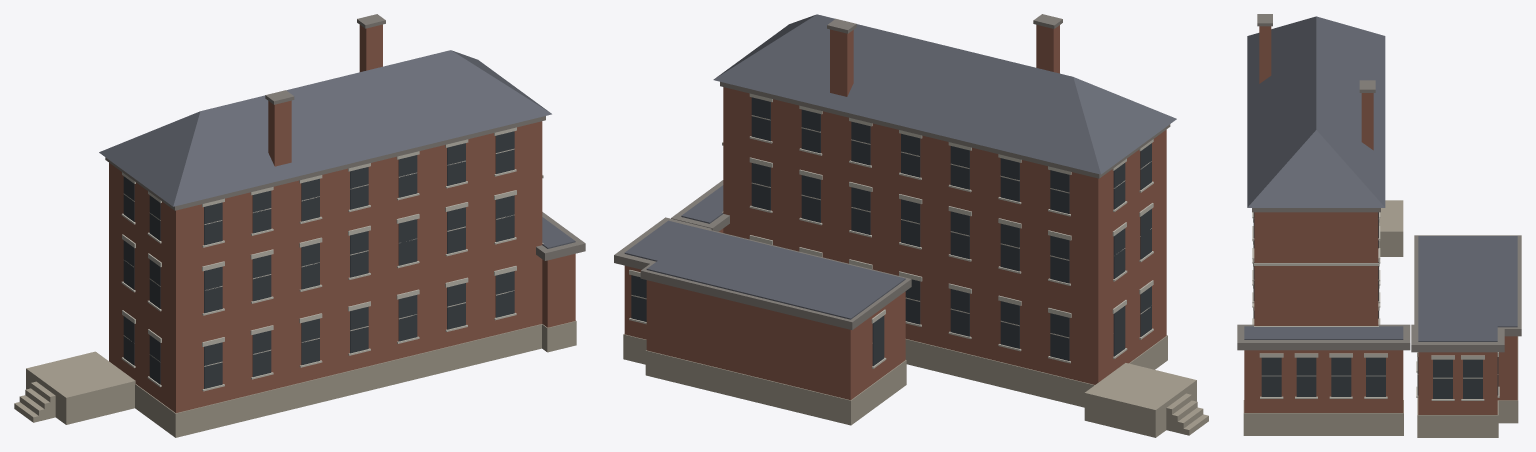
The model's file is house_2115_indiana__draft_1904.glb.
The picture shows the model from 3 angles, left to right: view 1: azimuth 30°, elevation 25°; view 2: azimuth 150°, elevation 25°; view 3: azimuth 270°, elevation 25°; orthographic projection. The views are drawn at different scales.
Parts seen in each view (by area): view 1: house_2115_indiana__draft_1904; view 2: house_2115_indiana__draft_1904; view 3: house_2115_indiana__draft_1904.
Part boxes in pixels (box(x1,y1,x2,y2)): house_2115_indiana__draft_1904: box(14, 14, 585, 437); house_2115_indiana__draft_1904: box(614, 14, 1208, 437); house_2115_indiana__draft_1904: box(1237, 14, 1521, 437).
Size of the model in its own units: 26.8 by 16 by 14.3.
